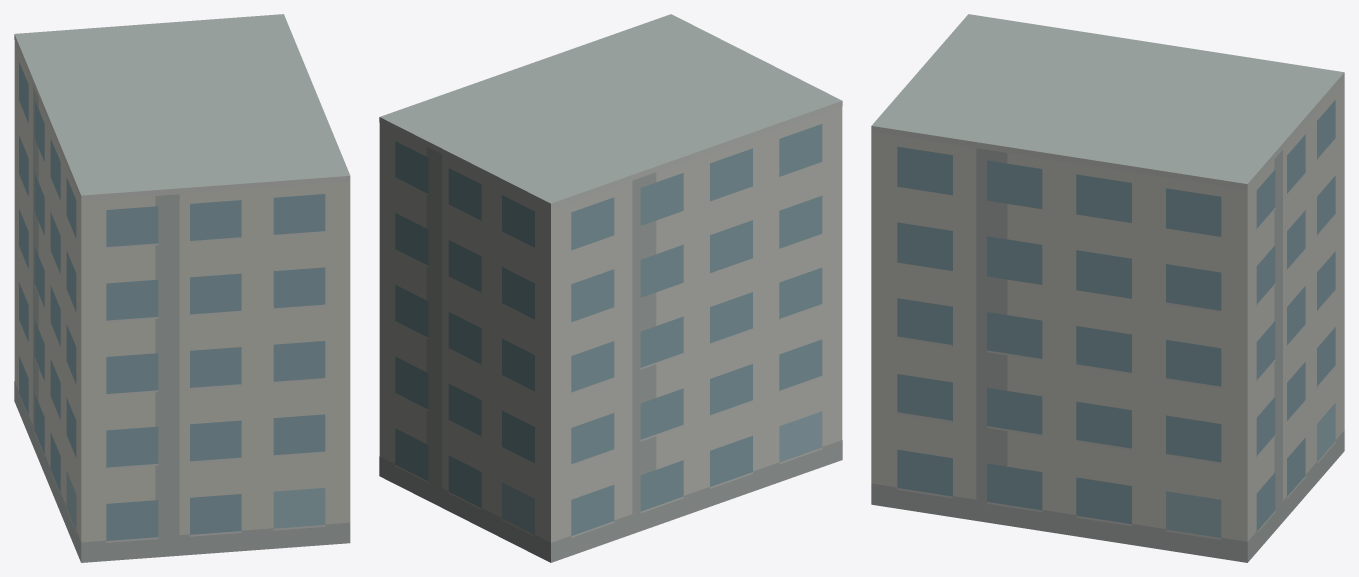
File: residential-b86ecdcd-daf2-4d94-aac3-8e597680985d.glb
3 renders of one model, left to right at view 1: azimuth 30°, elevation 25°; view 2: azimuth 150°, elevation 25°; view 3: azimuth 270°, elevation 25°, orthographic. The views are drawn at different scales.
Parts seen in each view (by area): view 1: residential-b86ecdcd-daf2-4d94-aac3-8e597680985d.tmp; view 2: residential-b86ecdcd-daf2-4d94-aac3-8e597680985d.tmp; view 3: residential-b86ecdcd-daf2-4d94-aac3-8e597680985d.tmp.
Boxes of the visible parts, x1=… form: residential-b86ecdcd-daf2-4d94-aac3-8e597680985d.tmp: x1=14, y1=14, x2=350, y2=562; residential-b86ecdcd-daf2-4d94-aac3-8e597680985d.tmp: x1=379, y1=14, x2=842, y2=562; residential-b86ecdcd-daf2-4d94-aac3-8e597680985d.tmp: x1=871, y1=14, x2=1344, y2=562.
Size of the model in its own units: 14.7 by 15.25 by 17.28.
